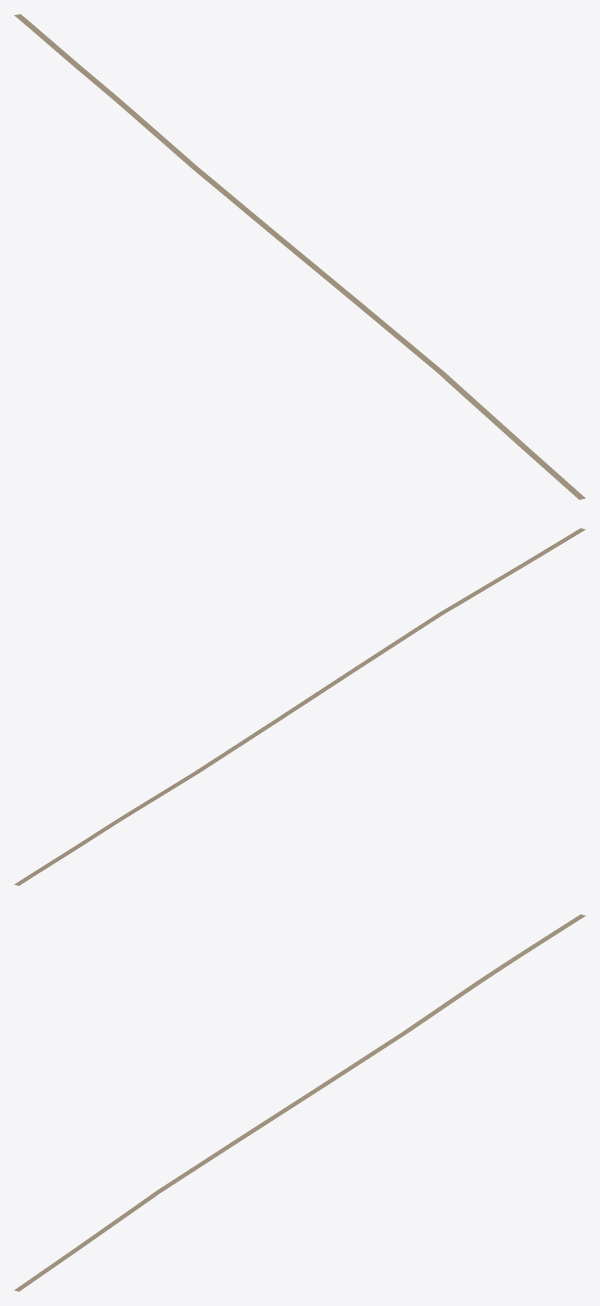
The model's file is farm_5_14_track.glb.
The picture shows the model from 3 angles, top to bottom: view 1: azimuth 30°, elevation 25°; view 2: azimuth 150°, elevation 25°; view 3: azimuth 330°, elevation 25°; orthographic projection. The views are drawn at different scales.
Parts seen in each view (by area): view 1: geometry_0; view 2: geometry_0; view 3: geometry_0.
Part boxes in pixels (x1,y1,x2,y2): geometry_0: [14, 14, 585, 499]; geometry_0: [14, 528, 585, 885]; geometry_0: [14, 914, 585, 1291].
Size of the model in its own units: 33.79 by 5.82 by 548.
